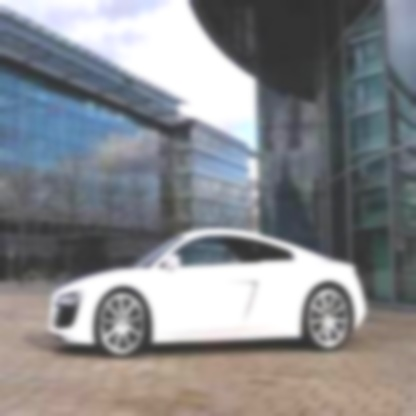Vehicle: (49, 227, 370, 370)
